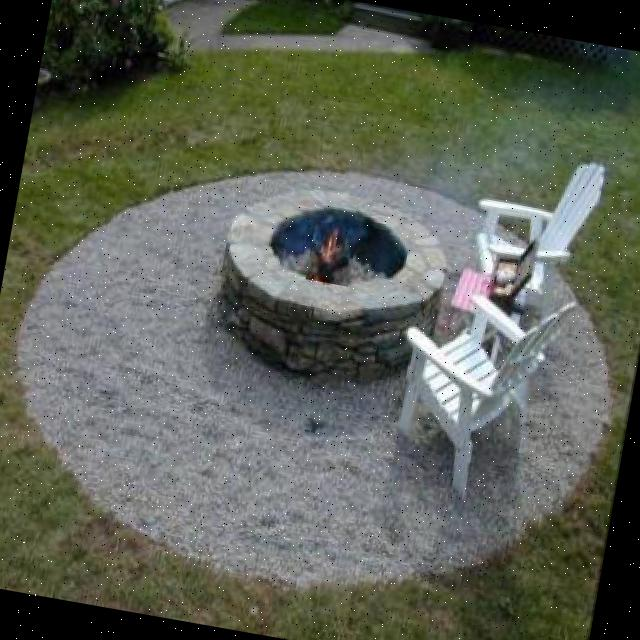fire: (305, 220, 358, 286)
